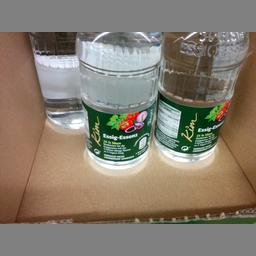vinegar: (74, 31, 164, 174), (153, 31, 247, 160)
